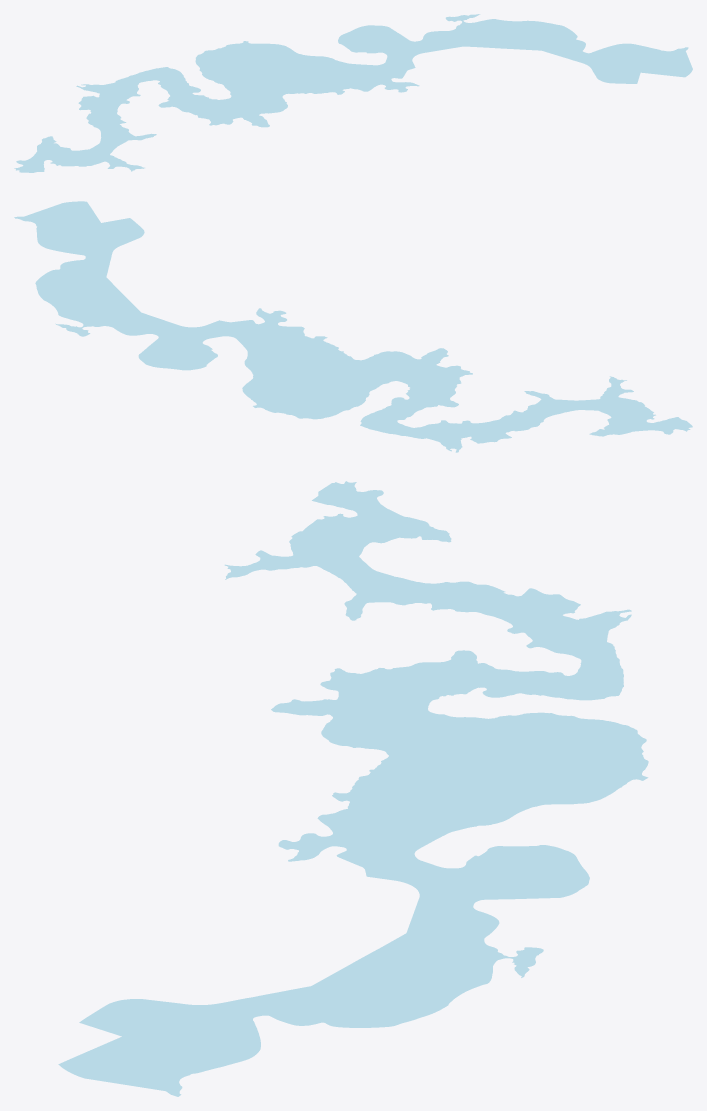
File: boundaries-sa2.glb
3 renders of one model, top to bottom at view 1: azimuth 30°, elevation 25°; view 2: azimuth 150°, elevation 25°; view 3: azimuth 270°, elevation 25°, orthographic. The views are drawn at different scales.
Size of the model in its own units: 7417 by 6.67e-13 by 3006.
